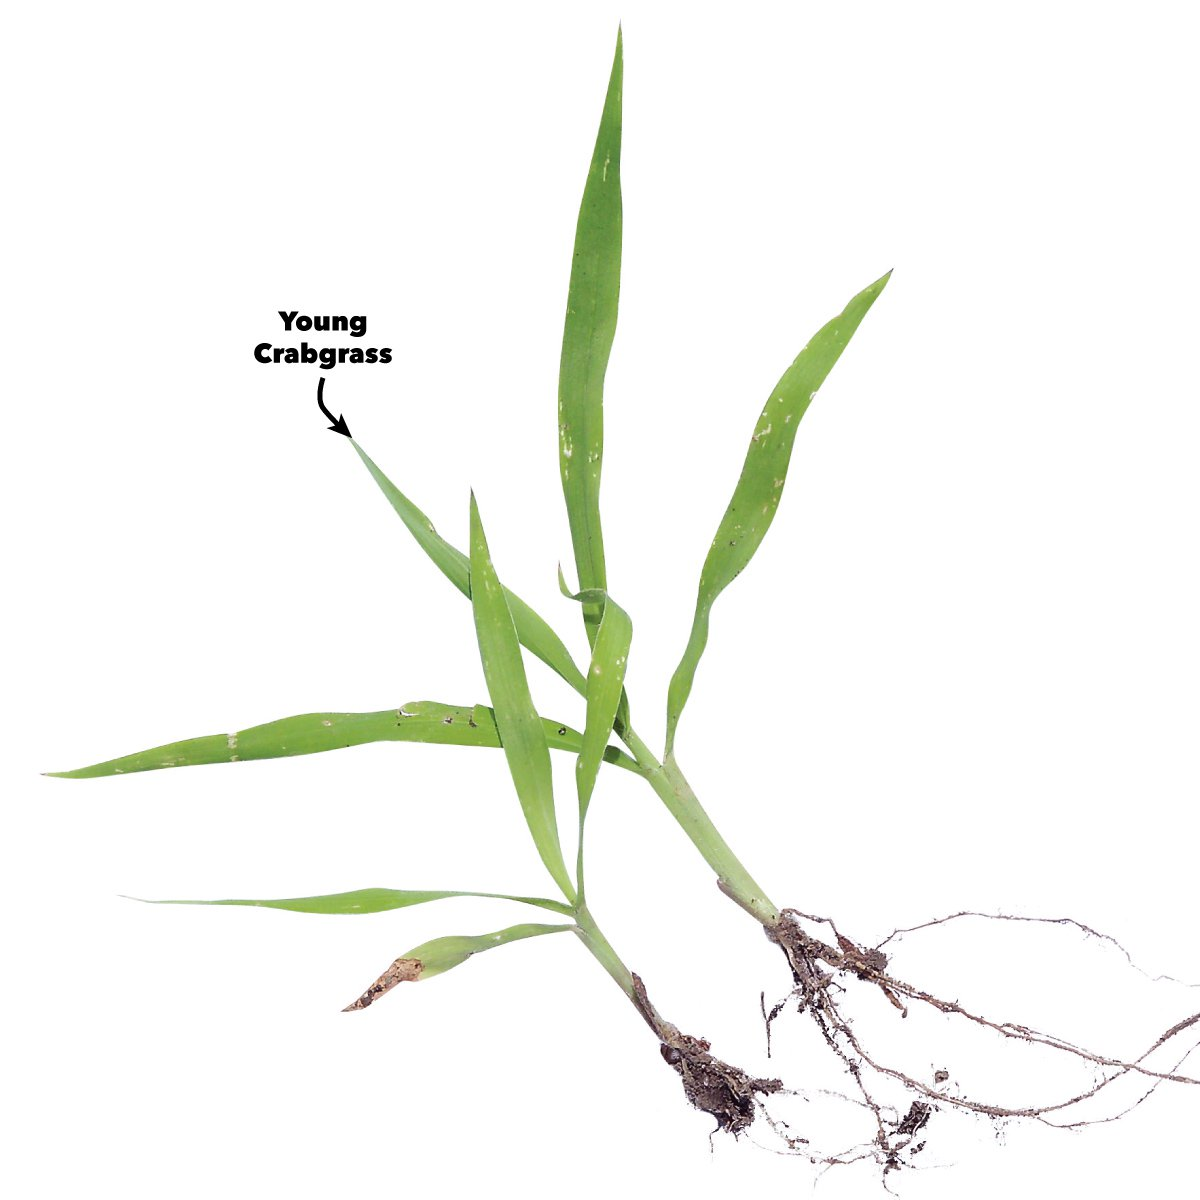crabgrass: (230, 216, 801, 956)
